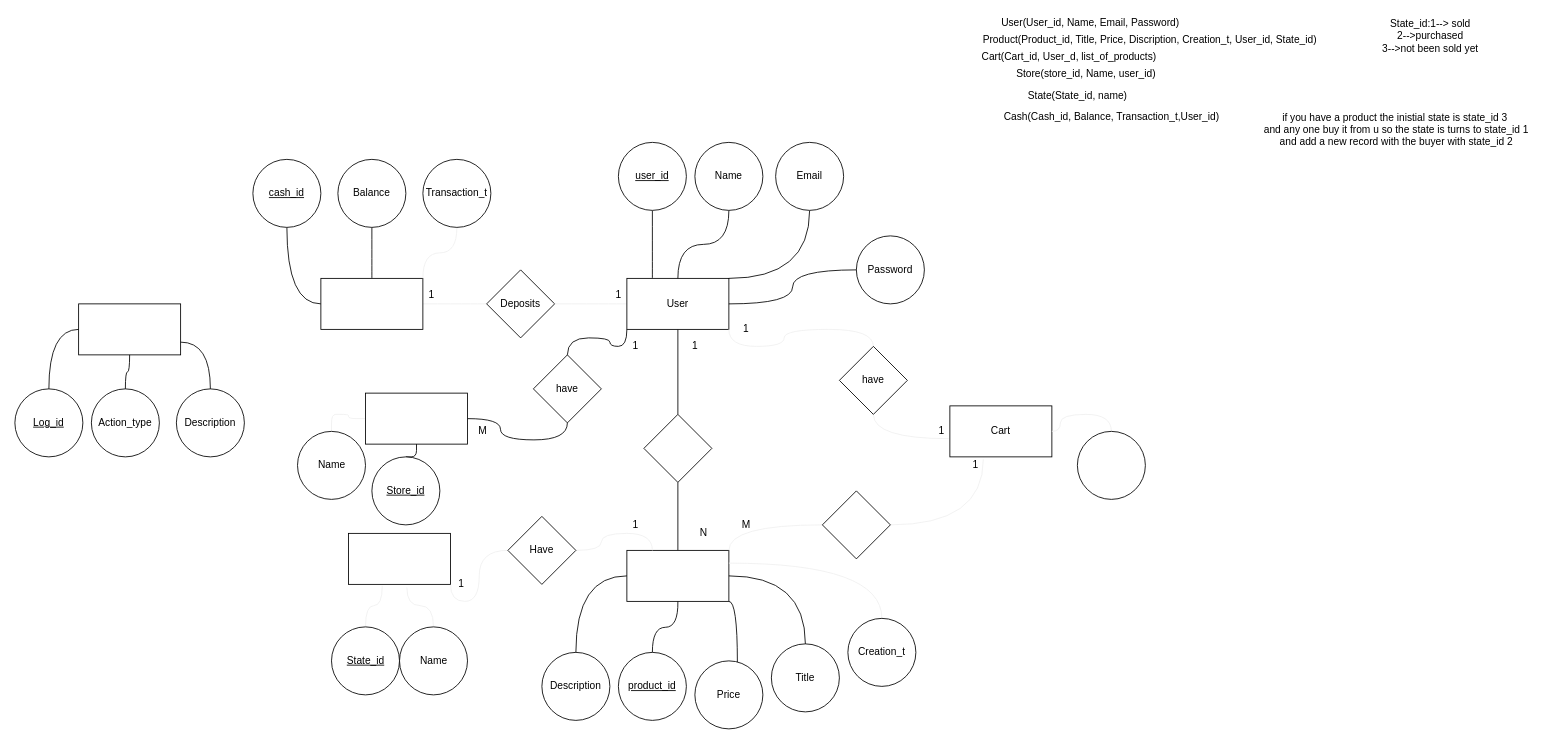
Some shapes in this 1551 by 744 pixel diagram are drawn without their labels. Each missing label, with the box of its shape:
Belongs to: (643, 414, 712, 482)
Cart_id: (1077, 431, 1145, 499)
Cash: (320, 278, 423, 329)
Contains: (822, 490, 890, 559)
Log: (78, 303, 181, 355)
Product: (626, 550, 729, 601)
State: (348, 533, 450, 584)
Store: (365, 392, 468, 444)
